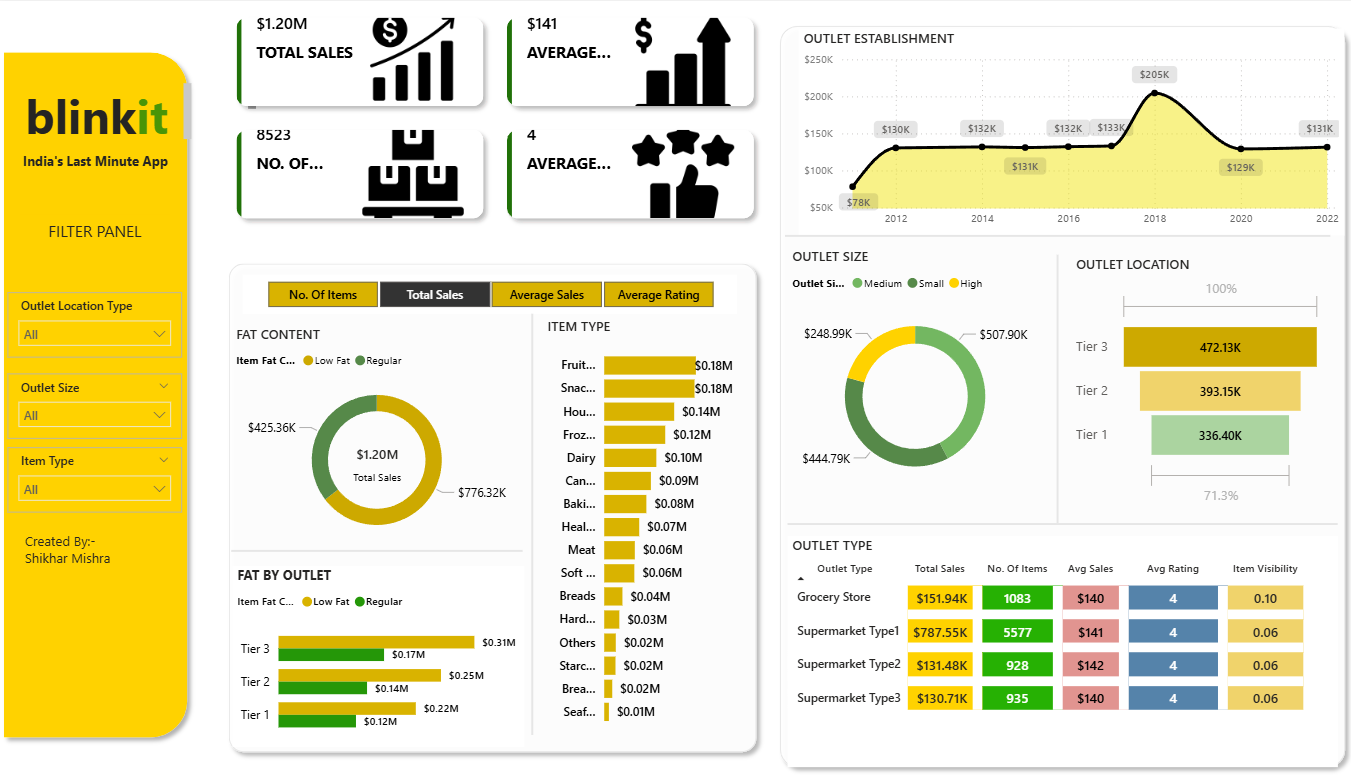

The dashboard page shown, as its layout file describes it:
{"tool":"powerbi","page":{"name":"Page 1","canvas":[1400,800],"ordinal":0},"visuals":[{"type":"shape","box":[0,43.4,204.6,715.2],"z":0},{"type":"textbox","box":[252.5,43,205,715],"z":1000},{"type":"textbox","box":[10.3,78.5,194.3,70.3],"z":2000},{"type":"textbox","box":[0,148.8,204.6,43.4],"z":3000},{"type":"cardVisual","fields":{"Data":["BlinkIT Grocery Data.Total Sales","BlinkIT Grocery Data.Average Sales","BlinkIT Grocery Data.No. Of Items","BlinkIT Grocery Data.Average Rating"]},"box":[228.6,0,561.4,238.5],"z":4000},{"type":"shape","box":[228.6,258.4,554.8,515.1],"z":5000},{"type":"donutChart","title":"FAT CONTENT","fields":{"Y":["BlinkIT Grocery Data.Total Sales"],"Category":["BlinkIT Grocery Data.Item Fat Content"]},"box":[240.1,329.6,296.5,230.2],"z":6000},{"type":"slicer","fields":{"Values":["Metrices.Metrices"]},"box":[251.7,278.2,503.5,39.7],"z":7000},{"type":"cardVisual","fields":{"Data":["BlinkIT Grocery Data.Total Sales"]},"box":[334.5,433.9,109.3,74.5],"z":8000},{"type":"clusteredBarChart","title":"FAT BY  OUTLET","fields":{"Y":["BlinkIT Grocery Data.Total Sales"],"Category":["BlinkIT Grocery Data.Outlet Location Type"],"Series":["BlinkIT Grocery Data.Item Fat Content"]},"box":[241.8,574.7,296.5,183.8],"z":9000},{"type":"shape","box":[240.1,538.3,296.5,43.1],"z":10000},{"type":"shape","box":[536.6,318,19.9,428.9],"z":11000},{"type":"barChart","title":"ITEM TYPE","fields":{"Y":["BlinkIT Grocery Data.Total Sales"],"Category":["BlinkIT Grocery Data.Item Type"]},"box":[556.5,321.3,198.7,425.6],"z":12000},{"type":"shape","box":[790,16.6,592.9,771.8],"z":13000},{"type":"lineChart","title":"OUTLET ESTABLISHMENT","fields":{"Category":["BlinkIT Grocery Data.Outlet Establishment Year"],"Y":["BlinkIT Grocery Data.Total Sales"]},"box":[818.1,28.2,554.8,210.3],"z":14000},{"type":"shape","box":[967.2,238.5,19.9,428.9],"z":15000},{"type":"shape","box":[803.2,217,554.8,43.1],"z":16000},{"type":"donutChart","title":"OUTLET SIZE","fields":{"Y":["BlinkIT Grocery Data.Total Sales"],"Category":["BlinkIT Grocery Data.Outlet Size"]},"box":[806.6,250.1,260,258.4],"z":17000},{"type":"shape","box":[1066.6,258.4,28.2,273.3],"z":18000},{"type":"funnel","title":"OUTLET LOCATION","fields":{"Y":["Sum(BlinkIT Grocery Data.Sales)"],"Category":["BlinkIT Grocery Data.Outlet Location Type"]},"box":[1094.7,258.4,260,260],"z":19000},{"type":"shape","box":[806.6,518.4,559.8,26.5],"z":20000},{"type":"pivotTable","title":"OUTLET TYPE","fields":{"Rows":["BlinkIT Grocery Data.Outlet Type"],"Values":["BlinkIT Grocery Data.Total Sales","BlinkIT Grocery Data.No. Of Items","BlinkIT Grocery Data.Average Sales","BlinkIT Grocery Data.Average Rating","Avg(BlinkIT Grocery Data.Item Visibility)"]},"box":[806.6,544.9,559.8,235.2],"z":21000},{"type":"slicer","fields":{"Values":["BlinkIT Grocery Data.Outlet Location Type"]},"box":[13.2,296.5,177.2,66.2],"z":22000},{"type":"slicer","fields":{"Values":["BlinkIT Grocery Data.Outlet Size"]},"box":[13.2,379.3,177.2,66.2],"z":23000},{"type":"slicer","fields":{"Values":["BlinkIT Grocery Data.Item Type"]},"box":[13.2,453.8,177.2,66.2],"z":24000},{"type":"textbox","box":[24.8,217,152.4,61.3],"z":25000},{"type":"textbox","box":[24.8,534.9,152.4,46.4],"z":26000}]}

Visuals, with their boxes in screenshot pixels (x1, y1, x2, y2), scaled from the page's 1400x800 canvas onto the 1351x783 screenshot:
shape: bbox=(0, 42, 197, 742)
textbox: bbox=(244, 42, 441, 742)
textbox: bbox=(10, 77, 197, 146)
textbox: bbox=(0, 146, 197, 188)
cardVisual - BlinkIT Grocery Data.Total Sales x BlinkIT Grocery Data.Average Sales: bbox=(221, 0, 762, 233)
shape: bbox=(221, 253, 756, 757)
"FAT CONTENT" donutChart: bbox=(232, 323, 518, 548)
slicer - Metrices.Metrices: bbox=(243, 272, 729, 311)
cardVisual - BlinkIT Grocery Data.Total Sales: bbox=(323, 425, 428, 498)
"FAT BY  OUTLET" clusteredBarChart: bbox=(233, 562, 519, 742)
shape: bbox=(232, 527, 518, 569)
shape: bbox=(518, 311, 537, 731)
"ITEM TYPE" barChart: bbox=(537, 314, 729, 731)
shape: bbox=(762, 16, 1334, 772)
"OUTLET ESTABLISHMENT" lineChart: bbox=(789, 28, 1325, 233)
shape: bbox=(933, 233, 953, 653)
shape: bbox=(775, 212, 1310, 255)
"OUTLET SIZE" donutChart: bbox=(778, 245, 1029, 498)
shape: bbox=(1029, 253, 1056, 520)
"OUTLET LOCATION" funnel: bbox=(1056, 253, 1307, 507)
shape: bbox=(778, 507, 1319, 533)
"OUTLET TYPE" pivotTable: bbox=(778, 533, 1319, 764)
slicer - BlinkIT Grocery Data.Outlet Location Type: bbox=(13, 290, 184, 355)
slicer - BlinkIT Grocery Data.Outlet Size: bbox=(13, 371, 184, 436)
slicer - BlinkIT Grocery Data.Item Type: bbox=(13, 444, 184, 509)
textbox: bbox=(24, 212, 171, 272)
textbox: bbox=(24, 524, 171, 569)
